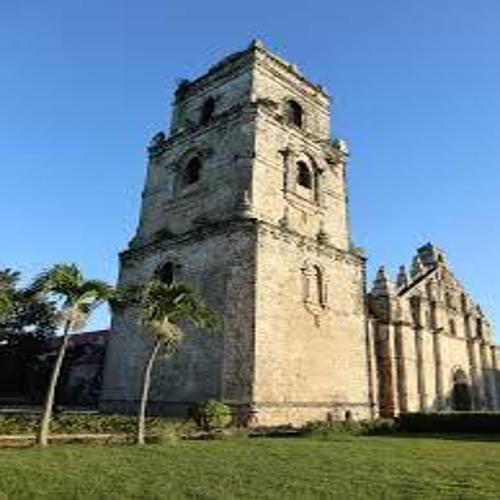Paoay Church: (116, 37, 500, 428)
